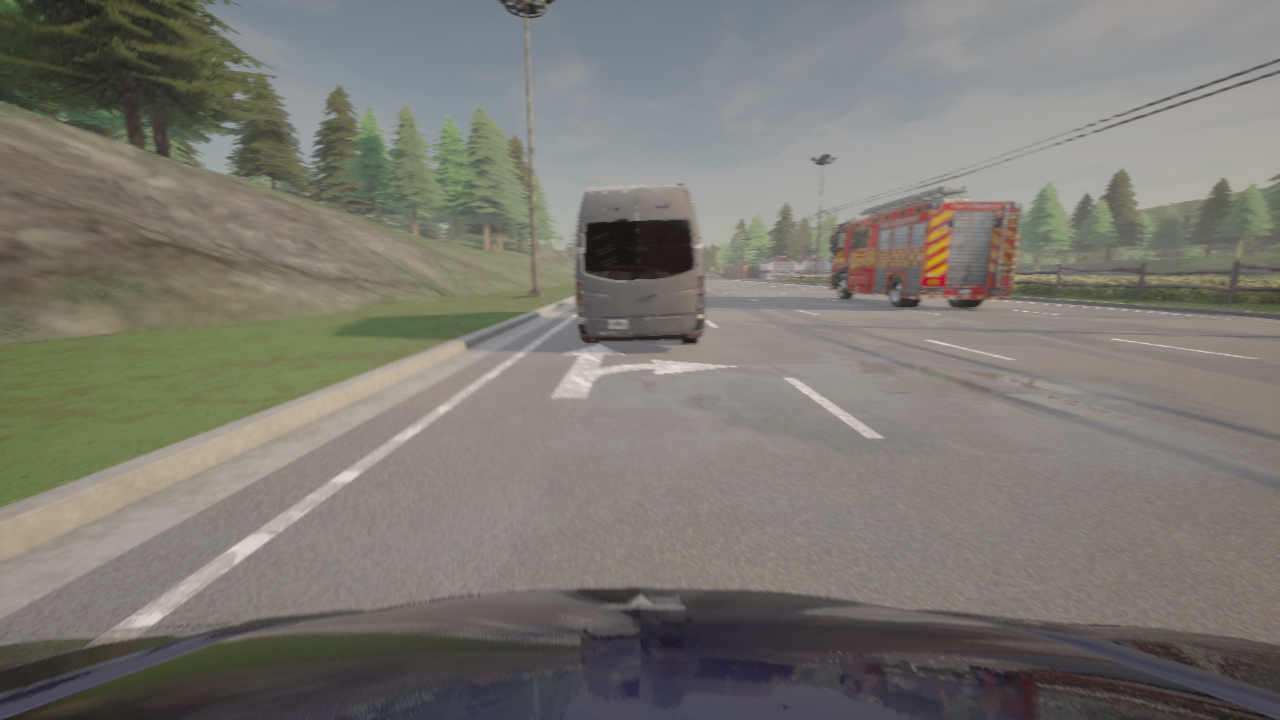cyclist: (0, 588, 1279, 719), (830, 186, 1022, 307), (575, 184, 705, 343)
